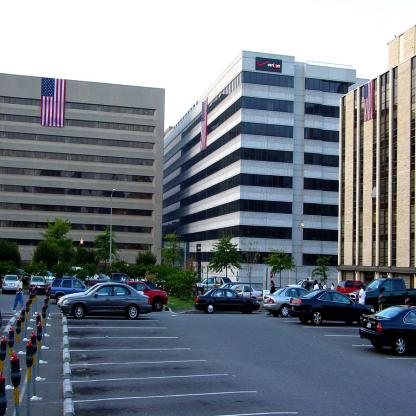Car: (196, 270, 416, 357), (0, 270, 169, 317)
